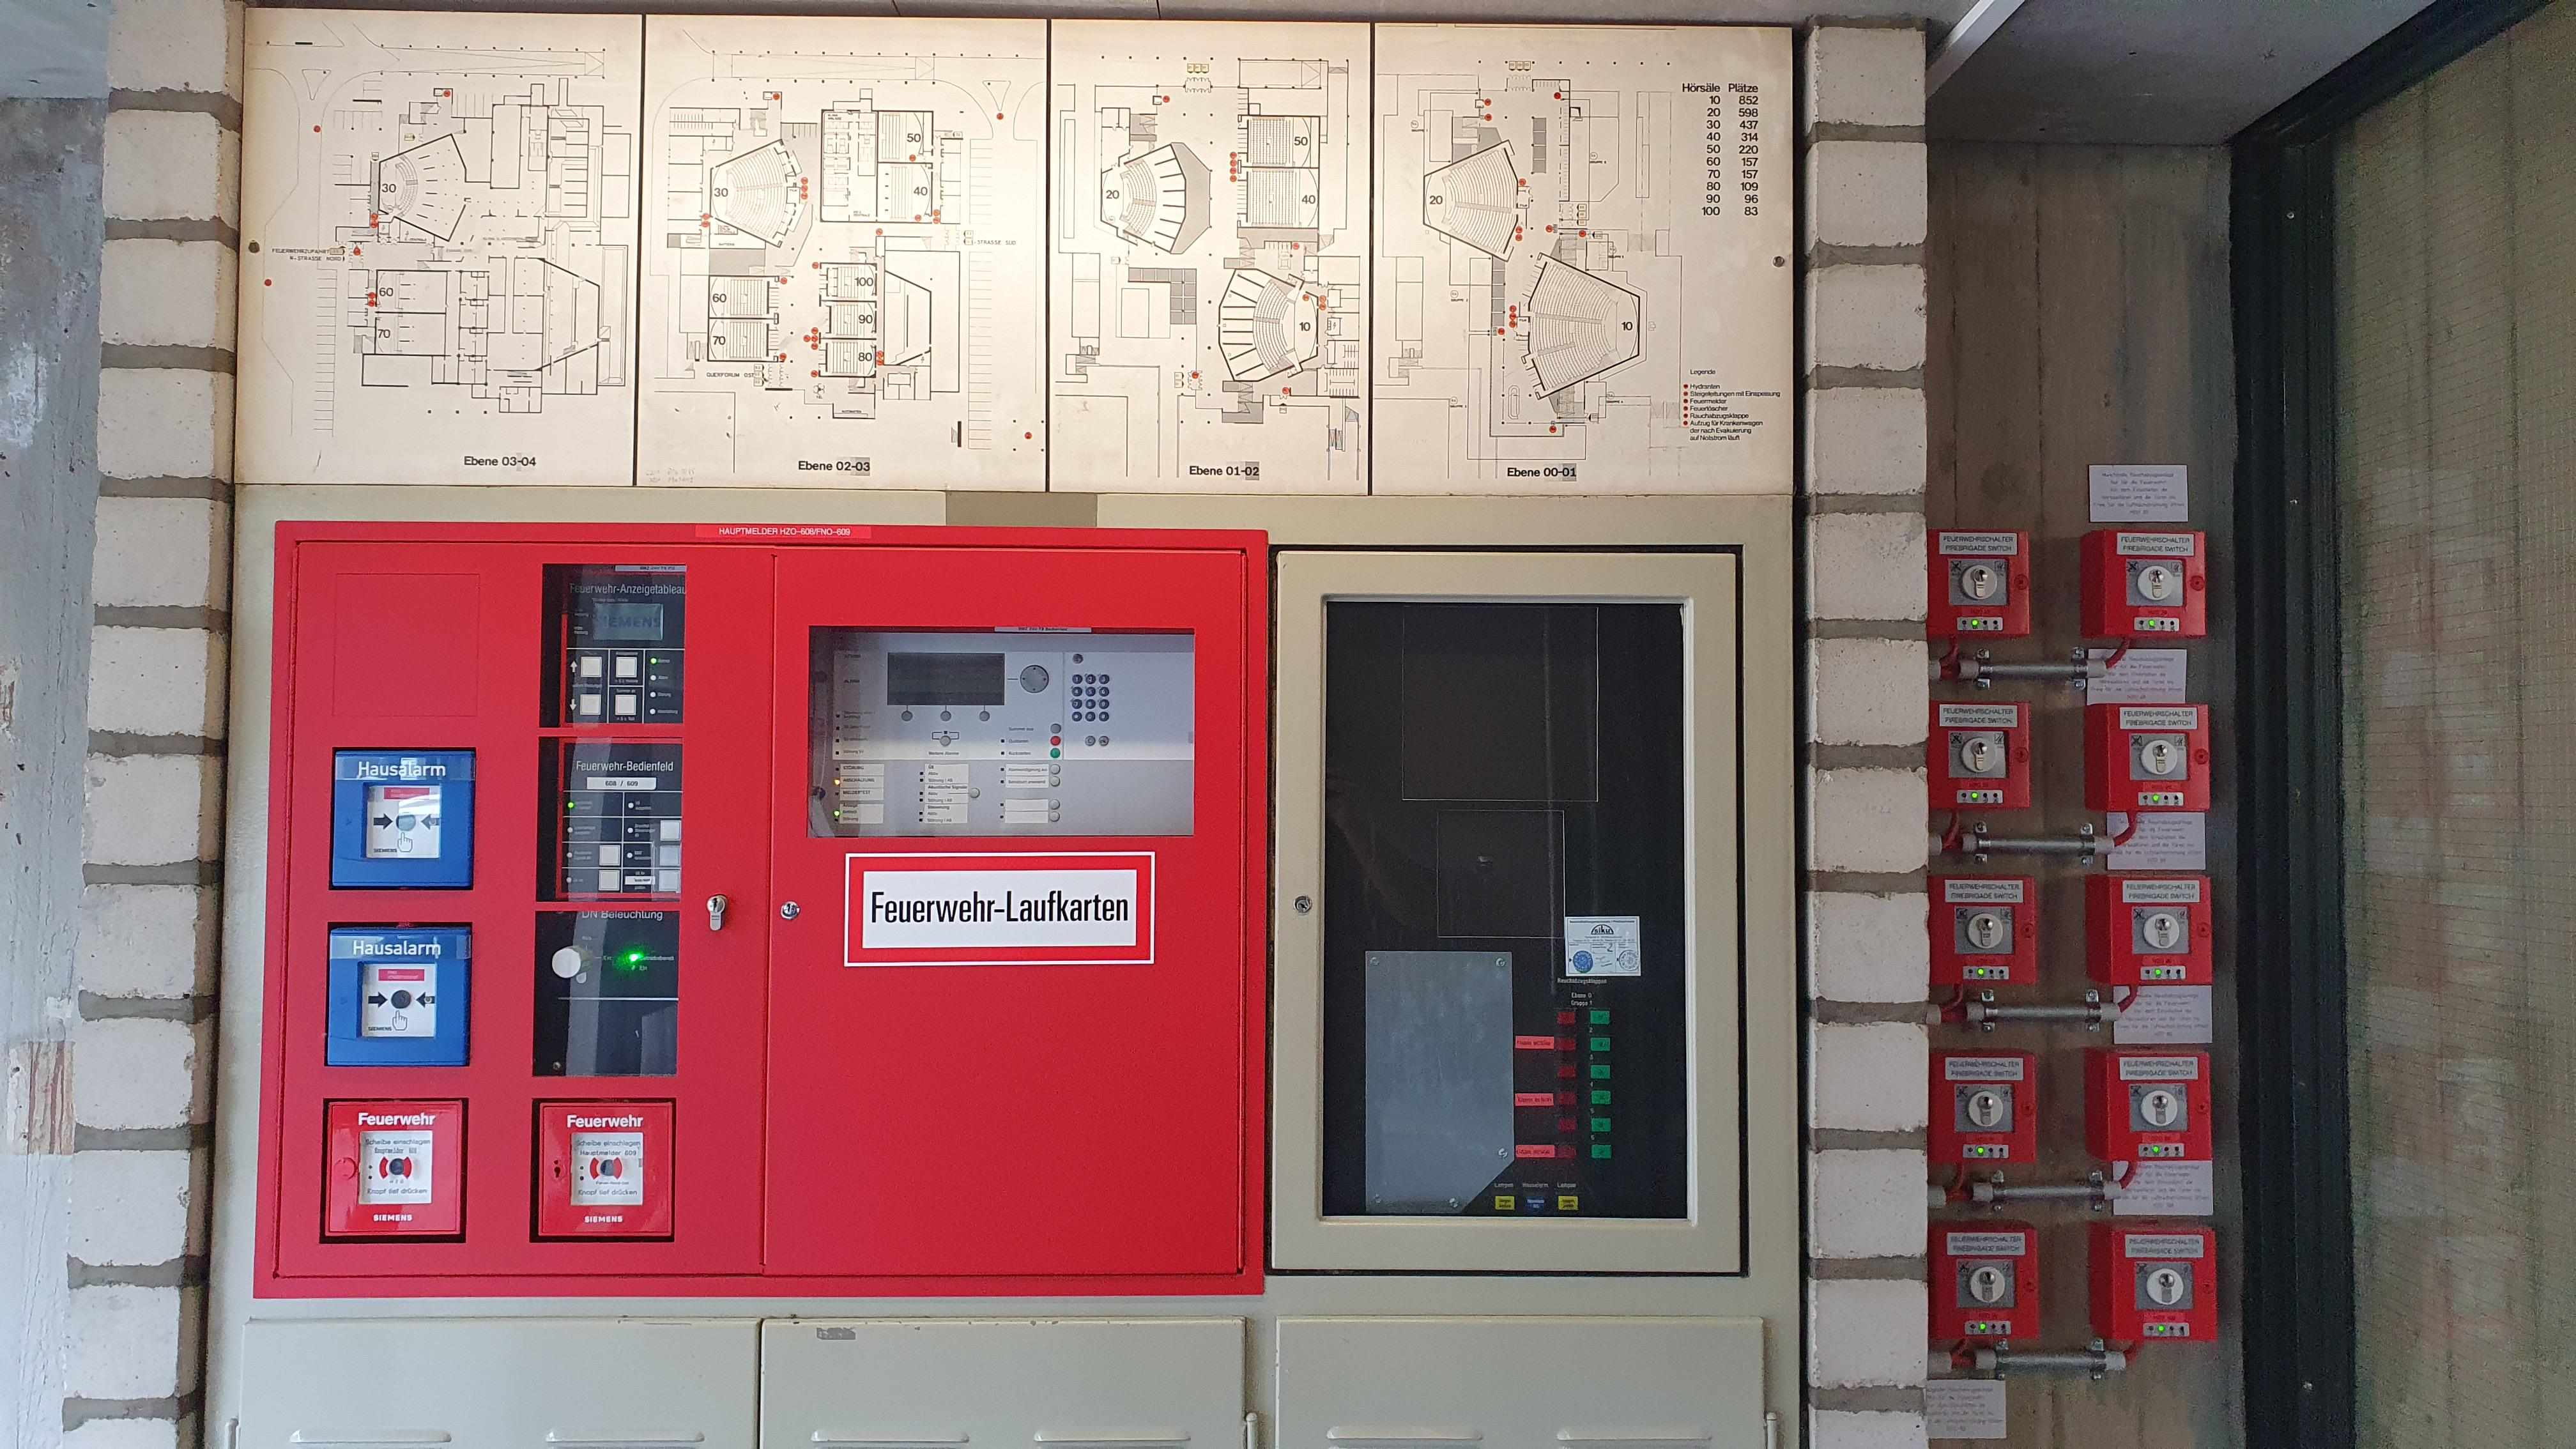call_point: (326, 927, 472, 1065), (329, 752, 474, 888), (324, 1100, 464, 1233), (538, 1102, 672, 1238)
